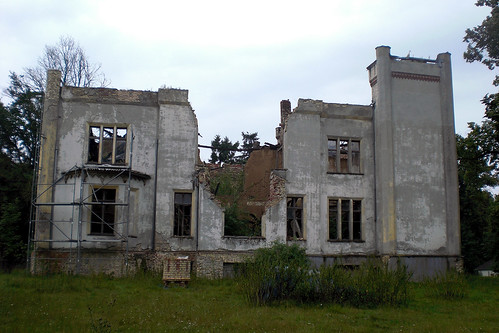building: (35, 48, 453, 273)
grass: (7, 273, 499, 333)
sky: (1, 1, 487, 98)
tree: (1, 43, 75, 238), (464, 35, 499, 289)
